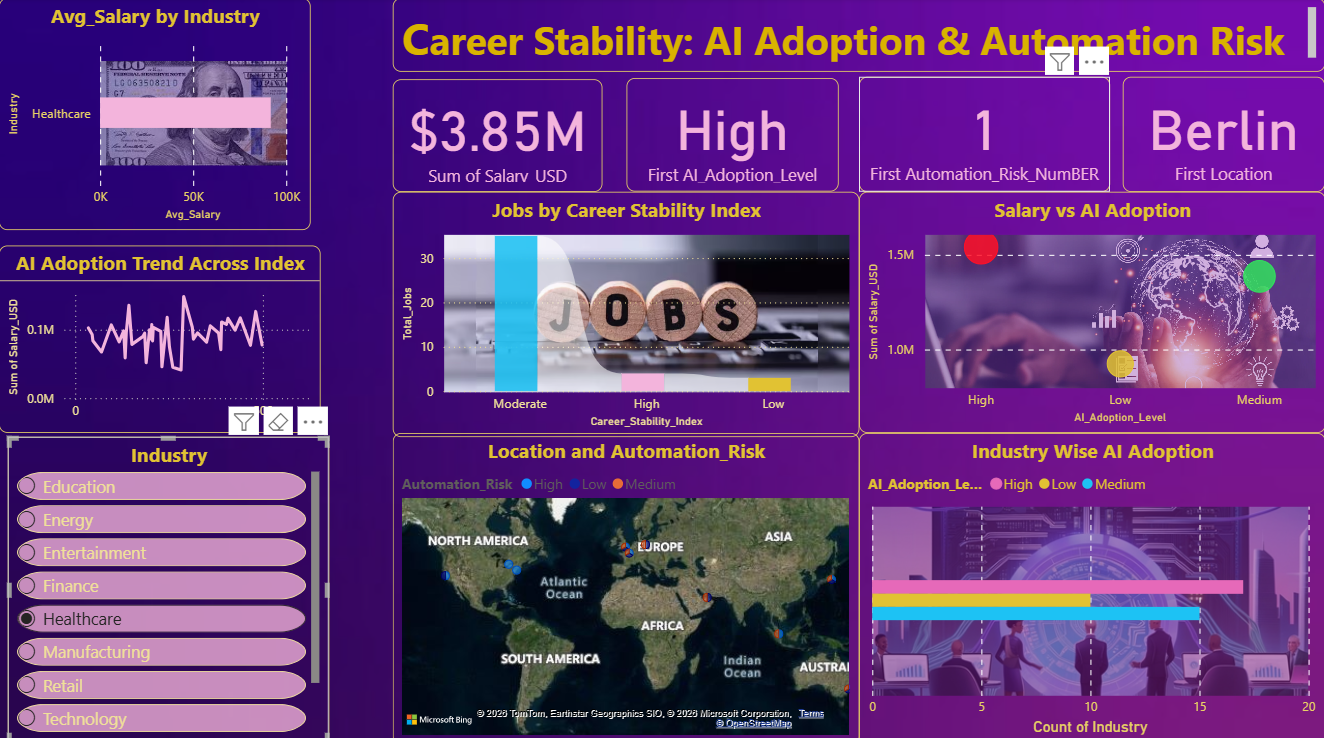

The dashboard page shown, as its layout file describes it:
{"tool":"powerbi","page":{"name":"Page 1","canvas":[1280,720],"ordinal":0},"visuals":[{"type":"textbox","box":[380,0,900,71.2],"z":0},{"type":"scatterChart","title":"Salary vs AI Adoption","fields":{"X":["ai_job_market_insights.AI_Adoption_Level"],"Y":["Sum(ai_job_market_insights.Salary_USD)"],"Size":["CountNonNull(ai_job_market_insights.Job_Title)"]},"box":[830,187,450,232.8],"z":1000},{"type":"clusteredBarChart","title":"Industry Wise AI Adoption","fields":{"Y":["CountNonNull(ai_job_market_insights.Industry)"],"Series":["ai_job_market_insights.AI_Adoption_Level"]},"box":[830.2,419.9,450.1,300.5],"z":2000},{"type":"map","fields":{"Category":["ai_job_market_insights.Location"],"Series":["ai_job_market_insights.Automation_Risk"]},"box":[380.1,419.9,450.1,300.5],"z":3000},{"type":"ribbonChart","title":"Jobs by Career Stability Index","fields":{"Category":["ai_job_market_insights.Career_Stability_Index"],"Y":["ai_job_market_insights.Total_Jobs"]},"box":[380,187,450,236.5],"z":4000},{"type":"listSlicer","fields":{"Values":["ai_job_market_insights.Industry"]},"box":[0,423.5,310.1,296.8],"z":5000},{"type":"lineChart","title":"AI Adoption Trend Across Index","fields":{"Category":["ai_job_market_insights.Index"],"Y":["Sum(ai_job_market_insights.Salary_USD)"]},"box":[0,238.9,310.1,181],"z":6000},{"type":"clusteredBarChart","fields":{"Y":["ai_job_market_insights.Avg_Salary"],"Category":["ai_job_market_insights.Industry"]},"box":[0,0,300.4,224.4],"z":7000},{"type":"card","fields":{"Values":["Min(ai_job_market_insights.Location)"]},"box":[1084.6,76,195.4,111],"z":8000},{"type":"card","fields":{"Values":["Min(ai_job_market_insights.Automation_Risk_NumBER)"]},"box":[830,76,242.5,111],"z":9000},{"type":"card","fields":{"Values":["Min(ai_job_market_insights.AI_Adoption_Level)"]},"box":[605.6,77.2,205.1,109.8],"z":10000},{"type":"card","fields":{"Values":["Sum(ai_job_market_insights.Salary_USD)"]},"box":[380,78.4,202.7,108.6],"z":11000}]}

Visuals, with their boxes in screenshot pixels (x1, y1, x2, y2), scaled from the page's 1280x720 canvas onto the 1324x738 screenshot:
textbox: detection(393, 0, 1323, 73)
"Salary vs AI Adoption" scatterChart: detection(859, 192, 1323, 430)
"Industry Wise AI Adoption" clusteredBarChart: detection(859, 430, 1323, 737)
map - ai_job_market_insights.Location x ai_job_market_insights.Automation_Risk: detection(393, 430, 859, 737)
"Jobs by Career Stability Index" ribbonChart: detection(393, 192, 859, 434)
listSlicer - ai_job_market_insights.Industry: detection(0, 434, 321, 737)
"AI Adoption Trend Across Index" lineChart: detection(0, 245, 321, 430)
clusteredBarChart - ai_job_market_insights.Avg_Salary x ai_job_market_insights.Industry: detection(0, 0, 311, 230)
card - Min(ai_job_market_insights.Location): detection(1122, 78, 1323, 192)
card - Min(ai_job_market_insights.Automation_Risk_NumBER): detection(859, 78, 1109, 192)
card - Min(ai_job_market_insights.AI_Adoption_Level): detection(626, 79, 839, 192)
card - Sum(ai_job_market_insights.Salary_USD): detection(393, 80, 603, 192)
